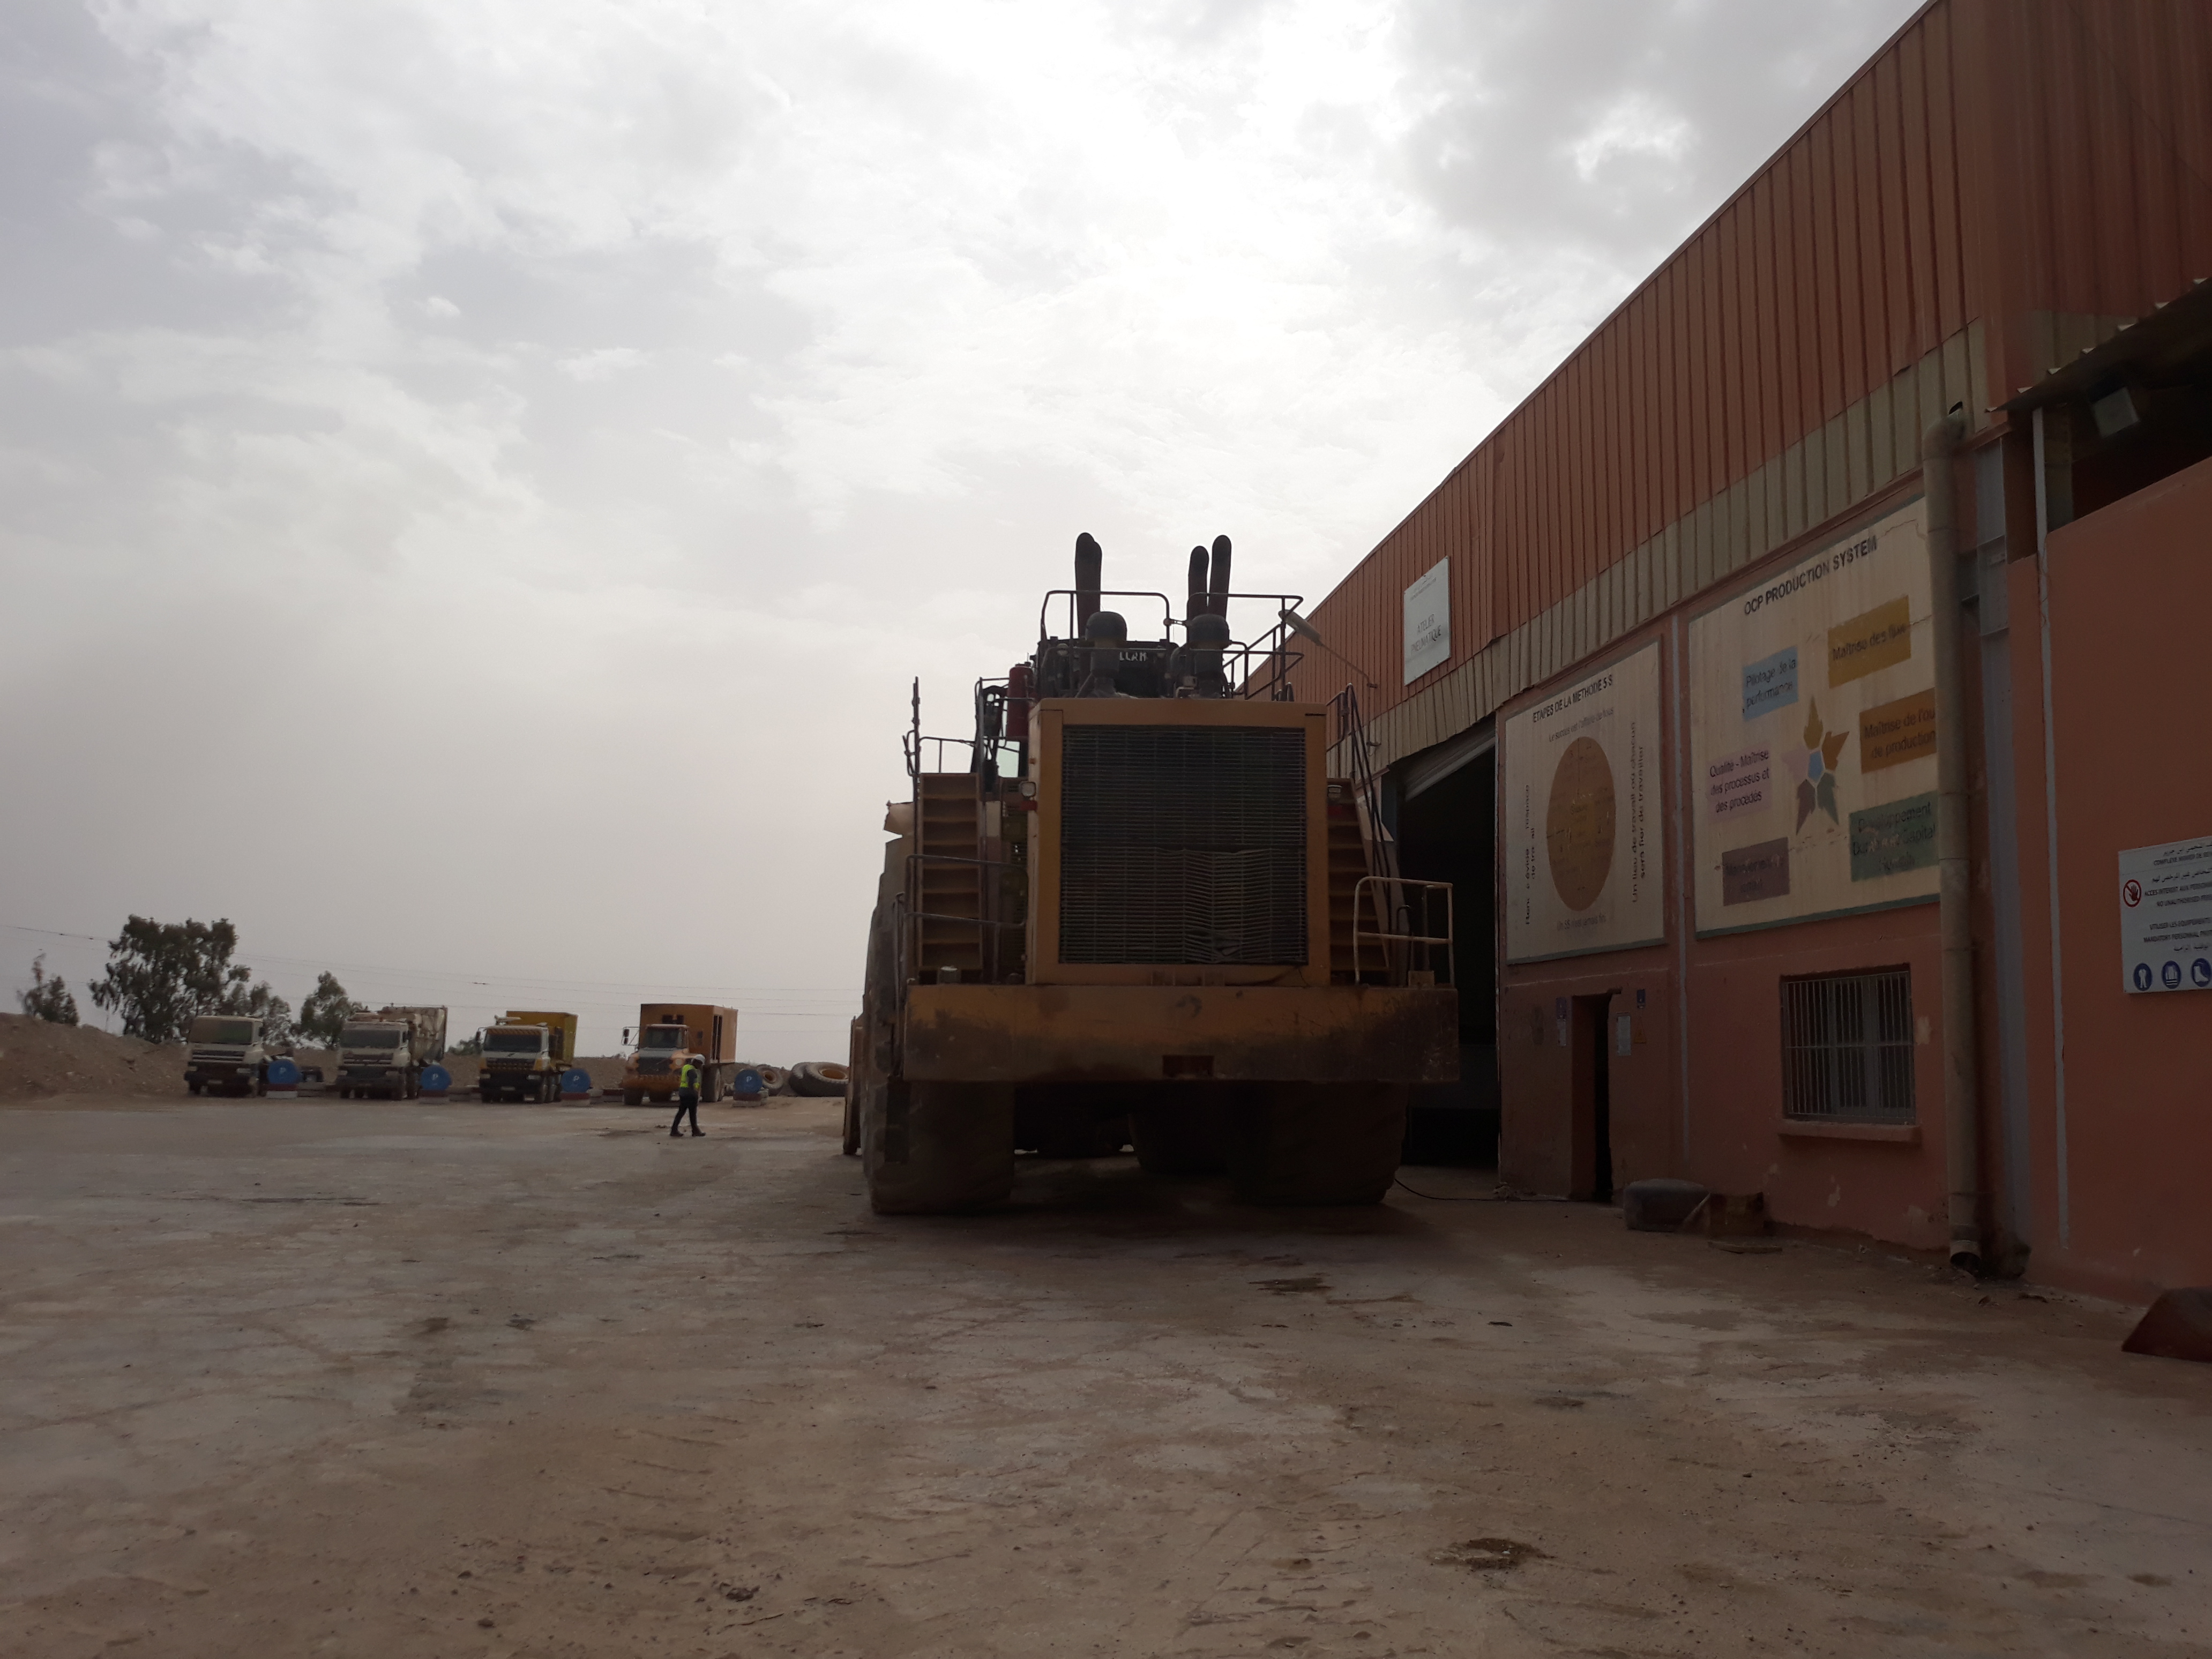chargeuse: (831, 496, 1476, 1260)
person: (656, 1043, 722, 1146)
